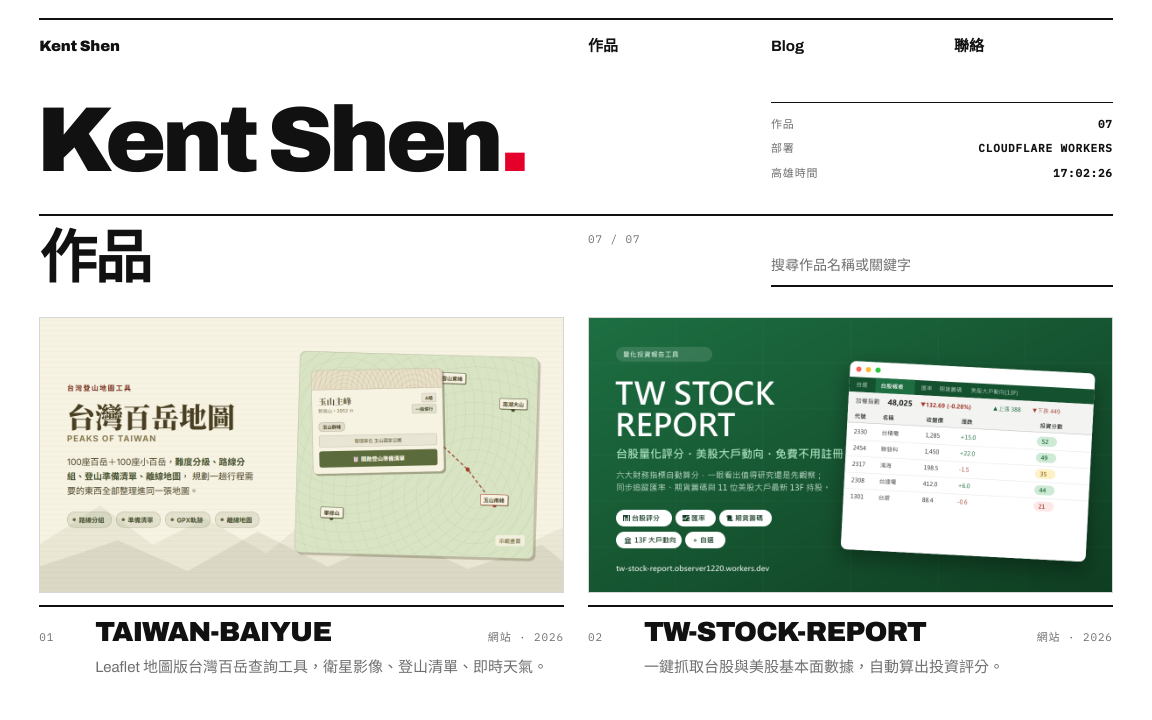
Test case: home › filters works with the search box
Type "stock" into the search field. click: (942, 267)
box: [771,246,1113,287]
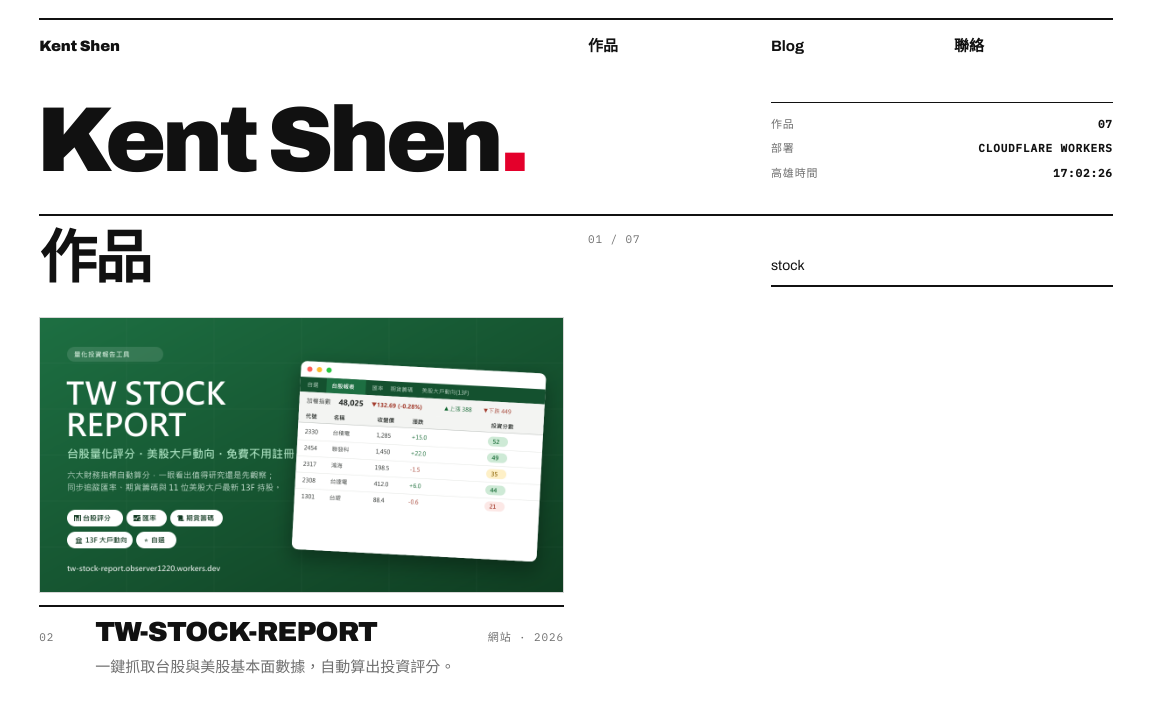
Replace the text in the search field with "zzzz-no-such-work". click: (942, 267)
box: [771,246,1113,287]
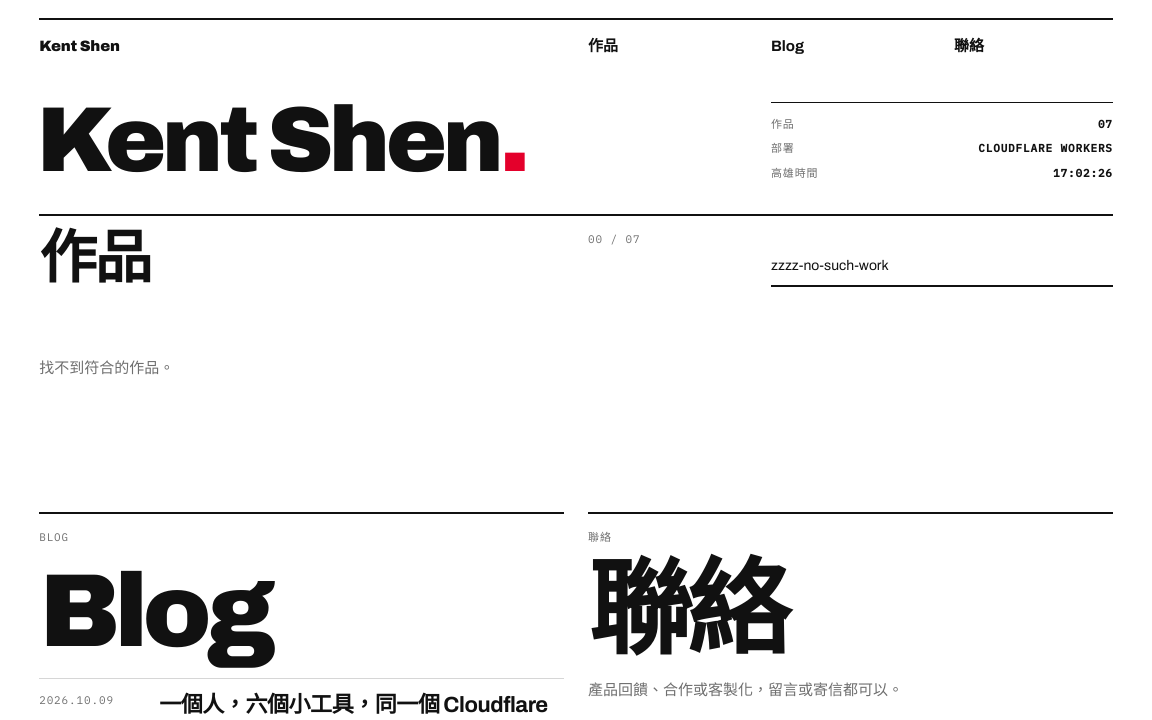
Result: no links are shown
Result: the text "找不到符合的作品。" is shown at [39,360,174,376]
